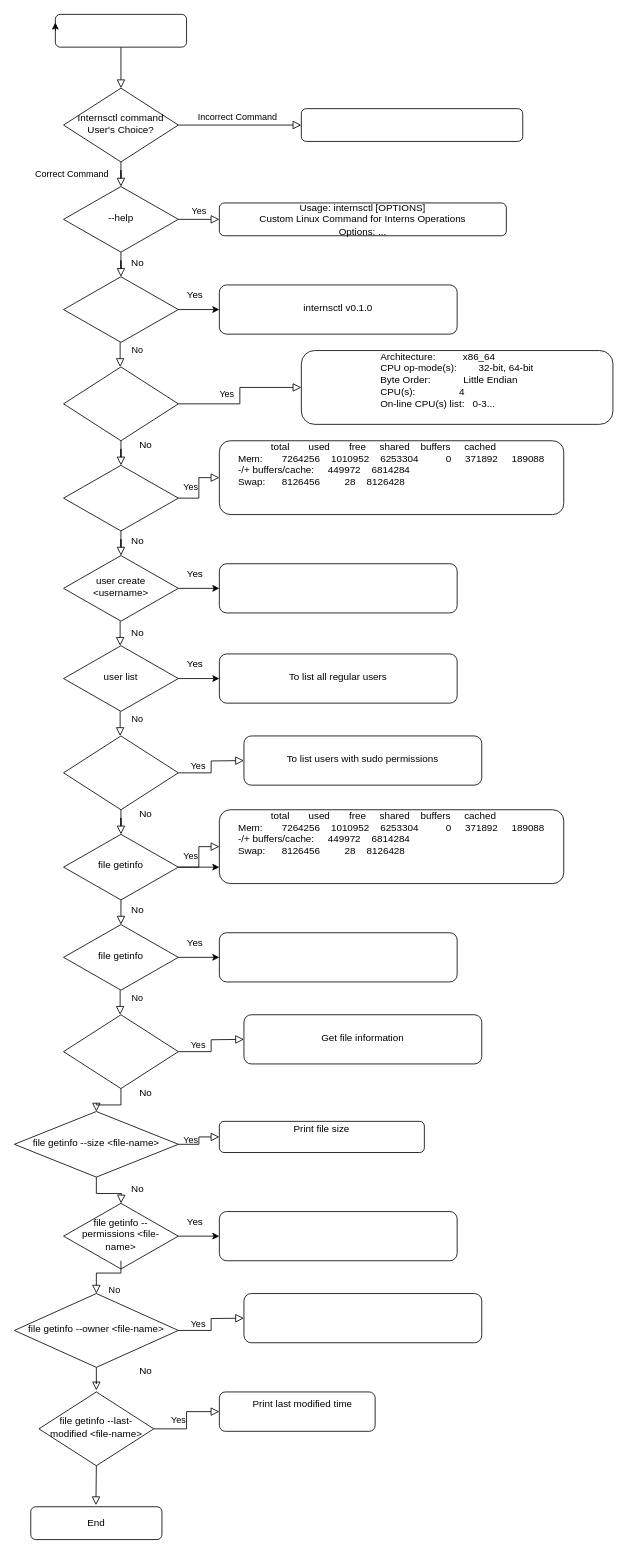
Image size: 627x1554. Some labels were removed from this diagram. The box of each missing label's shape, as (x1, y1, x2, y2) in pixels:
"Error: Please provide a filename.": (219, 932, 457, 982)
--version: (63, 276, 178, 342)
cpu getinfo: (63, 366, 178, 441)
Error: Invalid command or option. Use 'internsctl --help' for usage.: (301, 108, 523, 141)
file getinfo <file-name>: (63, 1014, 178, 1089)
memory getinfo: (63, 465, 178, 531)
Print file owner: (243, 1293, 482, 1343)
Print file permissions: (219, 1211, 457, 1261)
Start: (55, 14, 187, 47)
User create created with a home directory.: (219, 563, 457, 613)
user list --sudo-only: (63, 735, 178, 810)
